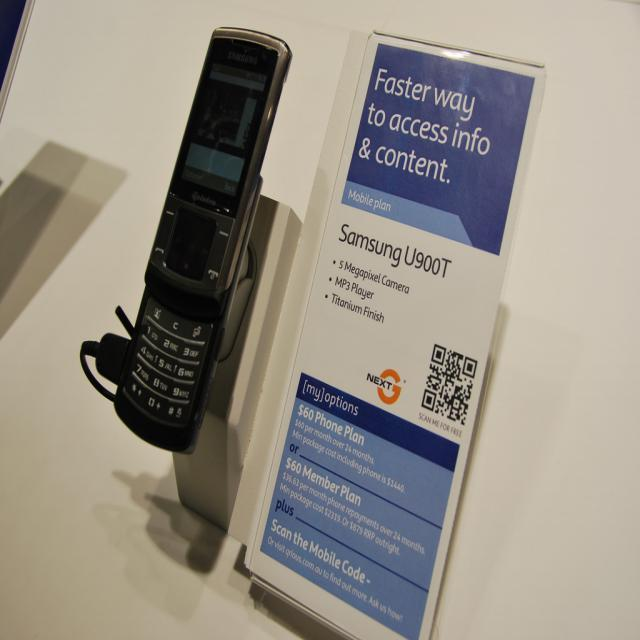qrcode: (423, 344, 479, 426)
